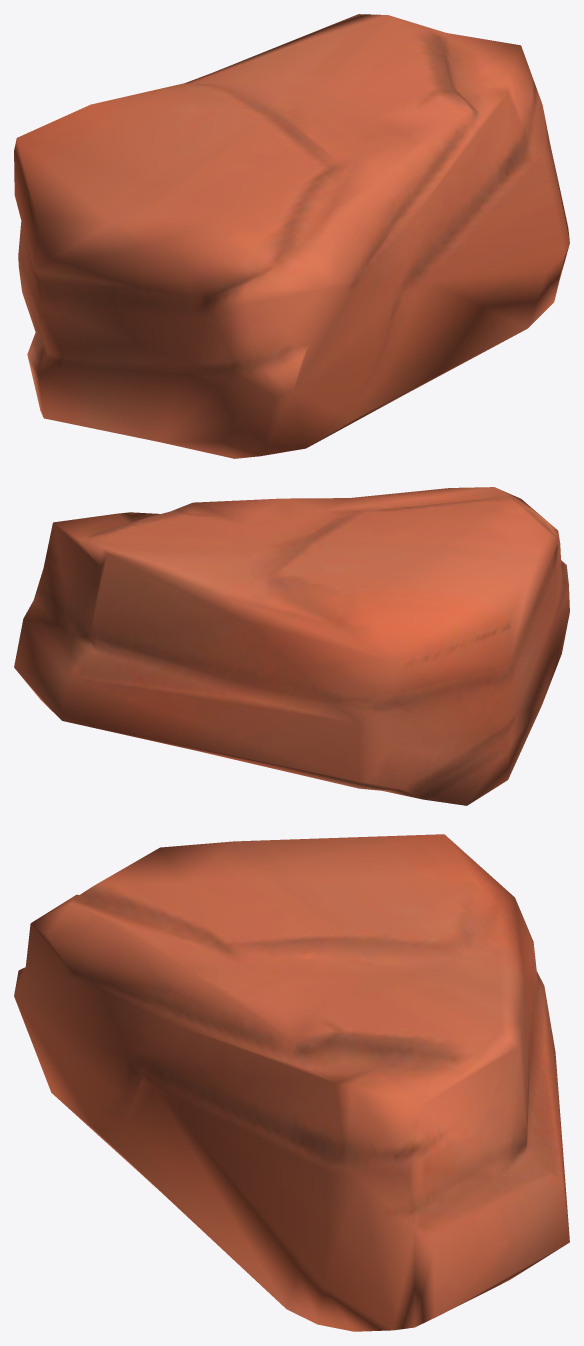
Rendered from Demo_shitouxiao02.FBX.
3 renders of one model, top to bottom at view 1: azimuth 30°, elevation 25°; view 2: azimuth 150°, elevation 25°; view 3: azimuth 270°, elevation 25°, orthographic. The views are drawn at different scales.
Visible parts, largest first — view 1: Demo_shitouxiao02; view 2: Demo_shitouxiao02; view 3: Demo_shitouxiao02.
Boxes of the visible parts, x1=… form: Demo_shitouxiao02: x1=14, y1=14, x2=569, y2=458; Demo_shitouxiao02: x1=14, y1=487, x2=569, y2=805; Demo_shitouxiao02: x1=14, y1=834, x2=569, y2=1331.
Bounding box in the file's own units: 2.06 × 0.9564 × 1.67.
